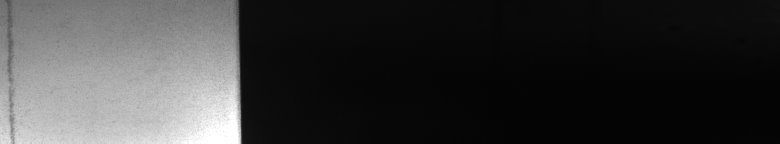hd: (4, 4, 22, 136)
